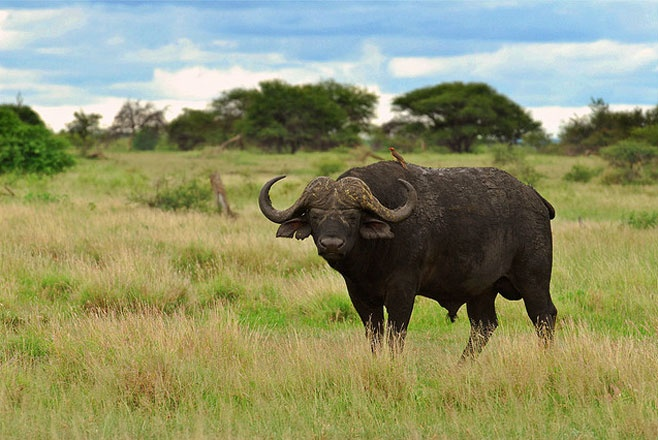buffalo: (408, 262, 658, 440)
